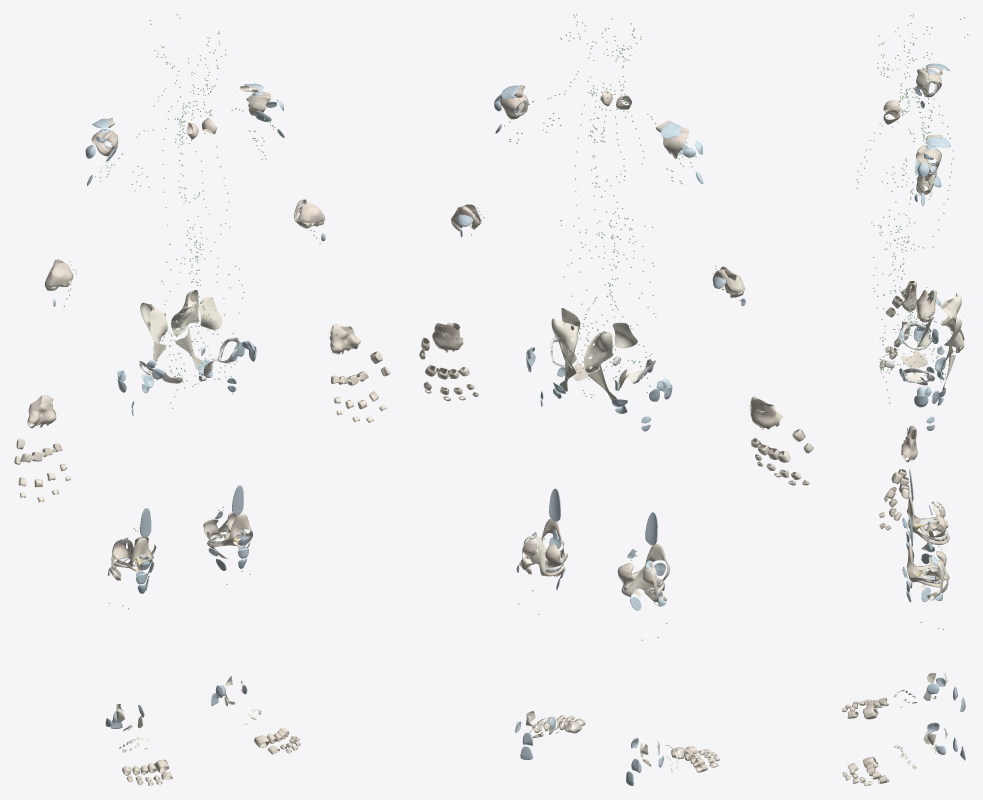
File: zanatomy-joints.glb
3 renders of one model, left to right at view 1: azimuth 30°, elevation 25°; view 2: azimuth 150°, elevation 25°; view 3: azimuth 270°, elevation 25°, orthographic. The views are drawn at different scales.
Visible parts, largest first — view 1: zj_knee_joint_capsule_l_1, zj_knee_joint_capsule_r_1, zj_posterior_sacro_iliac_ligament_l_1, zj_radiocarpal_joint_capsule_r_1, zj_radiocarpal_joint_capsule_l_1; view 2: zj_knee_joint_capsule_r_1, zj_knee_joint_capsule_l_1, zj_posterior_sacro_iliac_ligament_r_1, zj_posterior_sacro_iliac_ligament_l_1, zj_radiocarpal_joint_capsule_r_1; view 3: zj_knee_joint_capsule_l_1, zj_knee_joint_capsule_r_1, zj_posterior_sacro_iliac_ligament_l_1, zj_radiocarpal_joint_capsule_l_1, zj_elbow_joint_capsule_l_1, zj_posterior_sacro_iliac_ligament_r_1, zj_radiocarpal_joint_capsule_r_1, zj_glenohumeral_joint_capsule_l_1, zj_glenohumeral_joint_capsule_r_1, zj_obturator_membrane_r_1, zj_metacarpophalangeal_joint_capsules_l_1, zj_metatarsophalangeal_joint_capsules_l_1 (+3 smaller).
Part boxes in pixels (bbox=[...]): zj_knee_joint_capsule_l_1: bbox=[203, 512, 252, 547]; zj_knee_joint_capsule_r_1: bbox=[113, 536, 153, 571]; zj_posterior_sacro_iliac_ligament_l_1: bbox=[171, 290, 199, 335]; zj_radiocarpal_joint_capsule_r_1: bbox=[27, 395, 56, 428]; zj_radiocarpal_joint_capsule_l_1: bbox=[330, 324, 360, 355]; zj_knee_joint_capsule_r_1: bbox=[617, 544, 669, 593]; zj_knee_joint_capsule_l_1: bbox=[522, 518, 565, 576]; zj_posterior_sacro_iliac_ligament_r_1: bbox=[583, 331, 613, 372]; zj_posterior_sacro_iliac_ligament_l_1: bbox=[551, 318, 578, 368]; zj_radiocarpal_joint_capsule_r_1: bbox=[750, 396, 782, 429]; zj_knee_joint_capsule_l_1: bbox=[906, 545, 947, 587]; zj_knee_joint_capsule_r_1: bbox=[907, 496, 948, 544]; zj_posterior_sacro_iliac_ligament_l_1: bbox=[940, 317, 964, 352]; zj_radiocarpal_joint_capsule_l_1: bbox=[901, 425, 917, 462]; zj_elbow_joint_capsule_l_1: bbox=[916, 290, 936, 317]; zj_posterior_sacro_iliac_ligament_r_1: bbox=[940, 292, 964, 340]; zj_radiocarpal_joint_capsule_r_1: bbox=[901, 281, 917, 312]; zj_glenohumeral_joint_capsule_l_1: bbox=[916, 145, 941, 172]; zj_glenohumeral_joint_capsule_r_1: bbox=[916, 68, 941, 97]; zj_obturator_membrane_r_1: bbox=[901, 349, 927, 367]; zj_metacarpophalangeal_joint_capsules_l_1: bbox=[891, 469, 910, 498]; zj_metatarsophalangeal_joint_capsules_l_1: bbox=[863, 757, 887, 783].
Bounding box in the file's own units: 0.8449 × 1.53 × 0.244.
